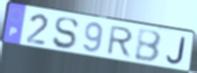2: (25, 13, 51, 47)
9: (82, 21, 105, 55)
B: (133, 29, 164, 65)
J: (165, 36, 187, 66)
R: (105, 24, 136, 59)
S: (51, 17, 80, 51)
